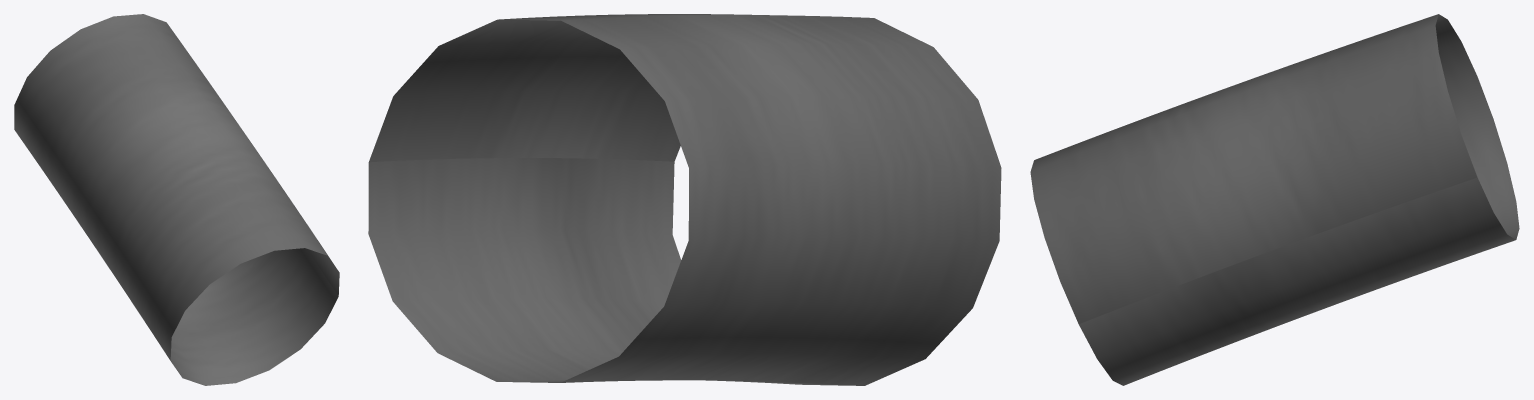
Rendered from mastarmcurve_8x2_c2.obj.
The picture shows the model from 3 angles, left to right: view 1: azimuth 30°, elevation 25°; view 2: azimuth 150°, elevation 25°; view 3: azimuth 270°, elevation 25°; orthographic projection. The views are drawn at different scales.
Visible parts, largest first — view 1: mastarm_8x2_c2; view 2: mastarm_8x2_c2; view 3: mastarm_8x2_c2.
Boxes of the visible parts, x1,y1,x2,y2 form: mastarm_8x2_c2: [14, 14, 339, 385]; mastarm_8x2_c2: [368, 14, 1001, 385]; mastarm_8x2_c2: [1030, 14, 1519, 385].
Bounding box in the file's own units: 0.565 × 0.8946 × 1.14.
